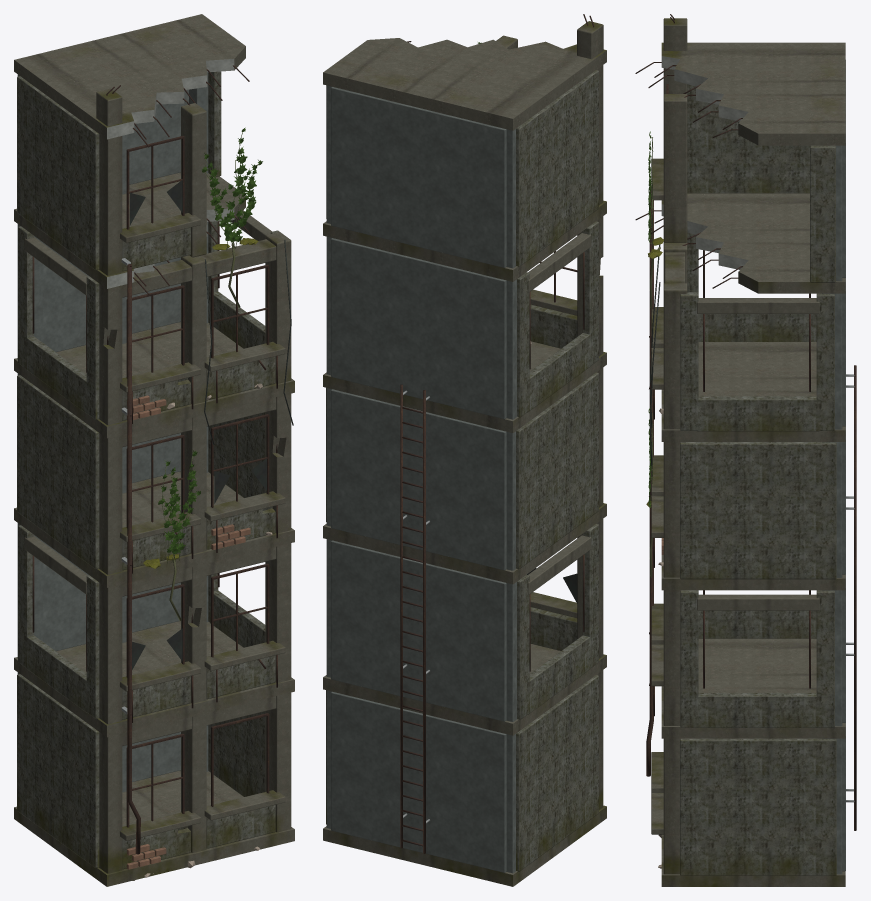
The model's file is f3_v2_courtyard_facade.glb.
The picture shows the model from 3 angles, left to right: view 1: azimuth 30°, elevation 25°; view 2: azimuth 150°, elevation 25°; view 3: azimuth 270°, elevation 25°; orthographic projection.
Parts seen in each view (by area): view 1: f3_v2_aged_structure_surface, f3_v2_aged_render_surface, v2_unlit_room_concrete_surface, f3_oxidized_iron_surface, f3_lobed_ivy_veined_surface, f3_deep_crack_surface, f3_exposed_aggregate_surface, v2_exposed_infill_brick_surface; view 2: v2_unlit_room_concrete_surface, f3_v2_aged_render_surface, f3_v2_aged_structure_surface, f3_oxidized_iron_surface; view 3: f3_v2_aged_render_surface, f3_v2_aged_structure_surface, v2_unlit_room_concrete_surface, f3_oxidized_iron_surface, f3_exposed_aggregate_surface, f3_deep_crack_surface, f3_lobed_ivy_veined_surface.
Boxes of the visible parts, <box> form: f3_v2_aged_structure_surface: <box>14,14,294,886</box>; f3_v2_aged_render_surface: <box>17,71,279,869</box>; v2_unlit_room_concrete_surface: <box>17,72,208,792</box>; f3_oxidized_iron_surface: <box>32,65,277,854</box>; f3_lobed_ivy_veined_surface: <box>158,127,262,553</box>; f3_deep_crack_surface: <box>130,180,293,669</box>; f3_exposed_aggregate_surface: <box>107,59,234,288</box>; v2_exposed_infill_brick_surface: <box>126,395,250,869</box>; v2_unlit_room_concrete_surface: <box>326,85,516,873</box>; f3_v2_aged_render_surface: <box>326,70,598,871</box>; f3_v2_aged_structure_surface: <box>323,21,606,886</box>; f3_oxidized_iron_surface: <box>400,14,594,853</box>; f3_v2_aged_render_surface: <box>680,84,836,875</box>; f3_v2_aged_structure_surface: <box>651,18,845,886</box>; v2_unlit_room_concrete_surface: <box>822,60,845,874</box>; f3_oxidized_iron_surface: <box>635,14,856,830</box>; f3_exposed_aggregate_surface: <box>661,56,748,269</box>; f3_deep_crack_surface: <box>649,244,660,466</box>; f3_lobed_ivy_veined_surface: <box>648,131,651,507</box>.
Bounding box in the file's own units: 4.12 × 16.21 × 4.11.
13 materials, 13 textured.
